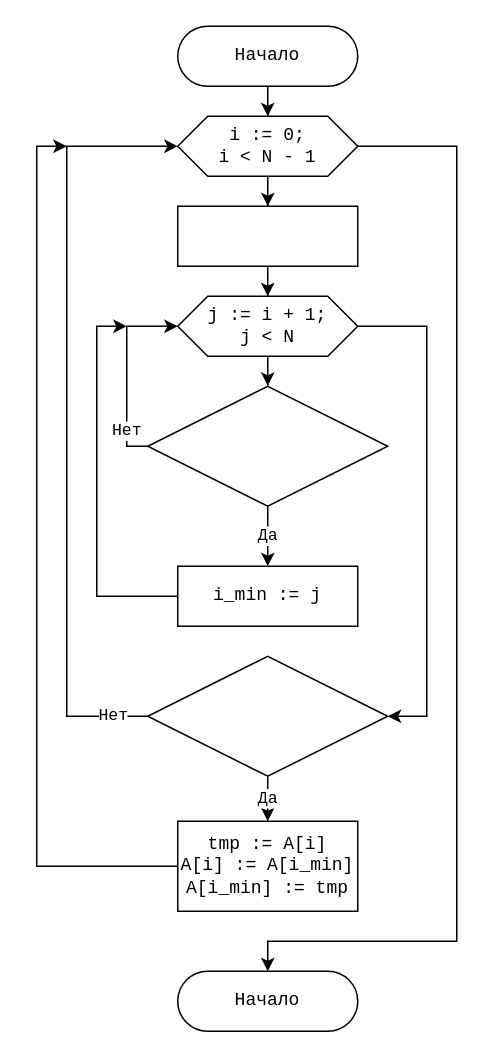
Image size: 495x1058. Some labels were removed from this diagram. The shapes that lost their labels are listed below. From the top down, each one's centre as x and y in pixels, then its label:
(267,235): i_min := i
(267,445): A[j] < A[i_min]
(267,715): i_min != i
